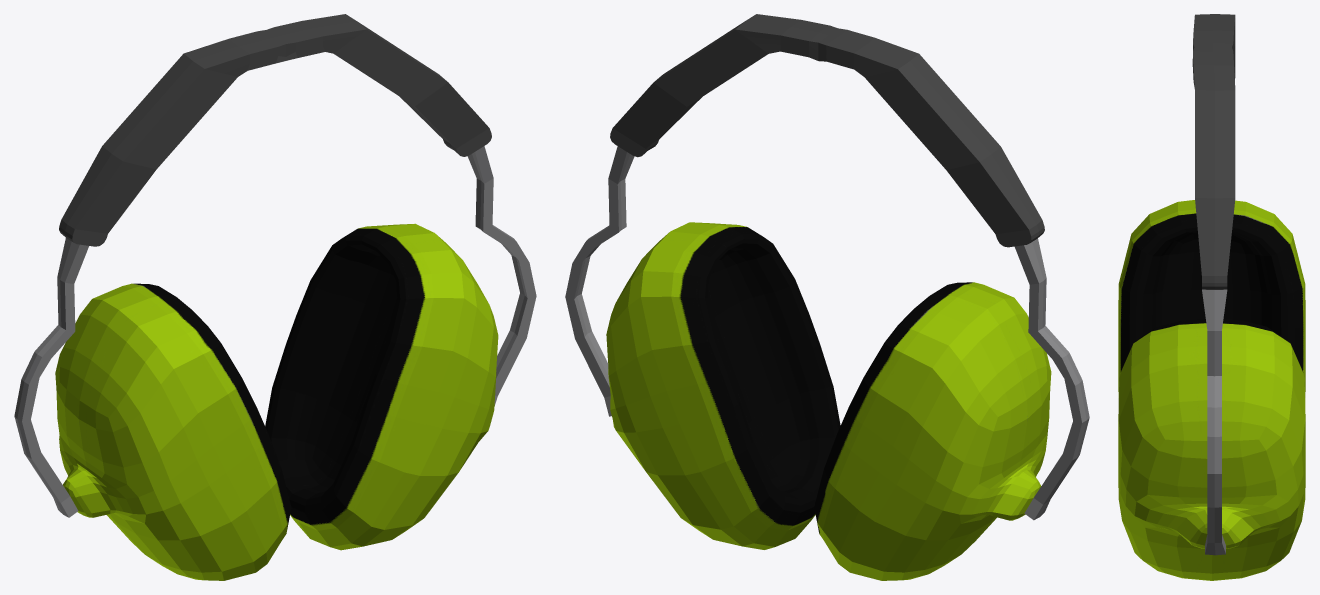
Rendered from Audifonos.fbx.
3 views of the same model, side by side, from view 1: azimuth 30°, elevation 25°; view 2: azimuth 150°, elevation 25°; view 3: azimuth 270°, elevation 25° (orthographic). The views are drawn at different scales.
Visible parts, largest first — view 1: Cube; view 2: Cube; view 3: Cube.
Part boxes in pixels (left/top/right/bottom): Cube: left=14, top=14, right=536, bottom=580; Cube: left=565, top=14, right=1089, bottom=580; Cube: left=1118, top=14, right=1305, bottom=580.
Bounding box in the file's own units: 277 × 264 × 91.
Materials: 1 (1 with a texture image).
